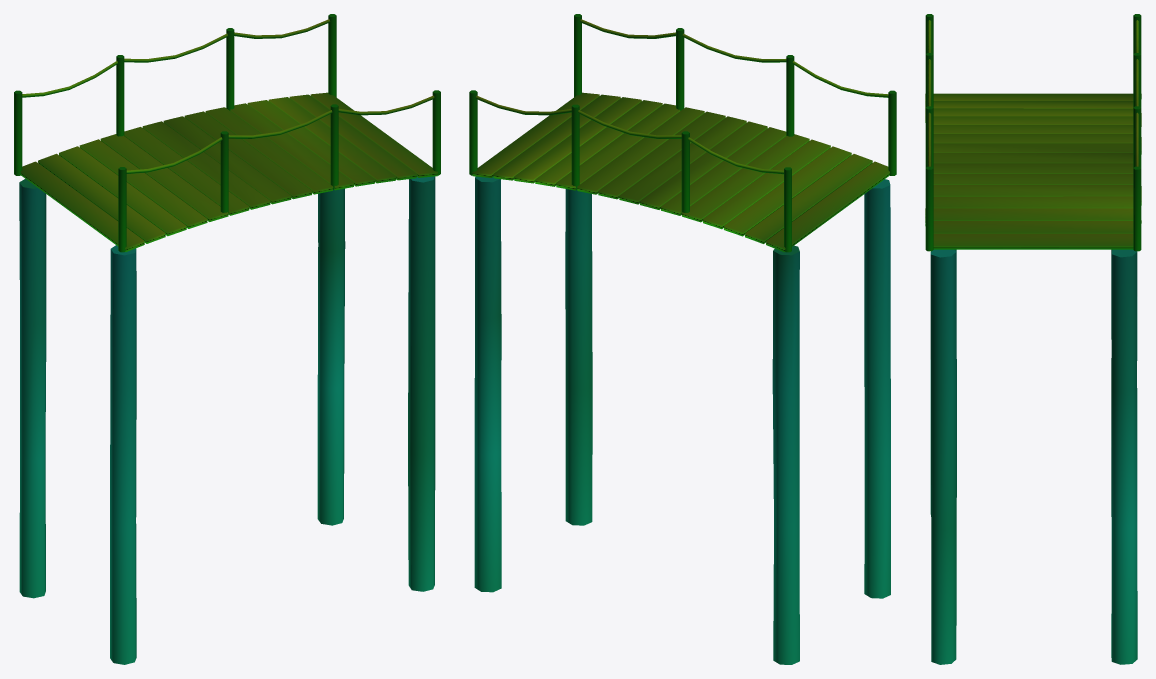
Rendered from plank_bridge_4m.glb.
3 views of the same model, side by side, from view 1: azimuth 30°, elevation 25°; view 2: azimuth 150°, elevation 25°; view 3: azimuth 270°, elevation 25° (orthographic).
Visible parts, largest first — view 1: plank_bridge_4m; view 2: plank_bridge_4m; view 3: plank_bridge_4m.
Part boxes in pixels (bbox=[...]): plank_bridge_4m: bbox=[14, 14, 440, 664]; plank_bridge_4m: bbox=[469, 14, 896, 664]; plank_bridge_4m: bbox=[925, 14, 1141, 664].
Size of what is drawn, in the model's own units: 4.1 by 6.18 by 2.39.
